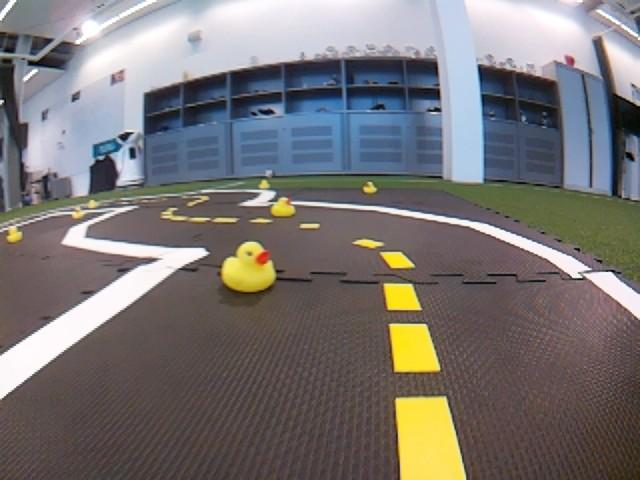Duckies: (223, 243, 276, 293), (269, 198, 294, 217), (5, 227, 22, 242), (364, 182, 379, 193), (71, 210, 85, 220), (87, 200, 98, 207), (258, 182, 269, 189)
